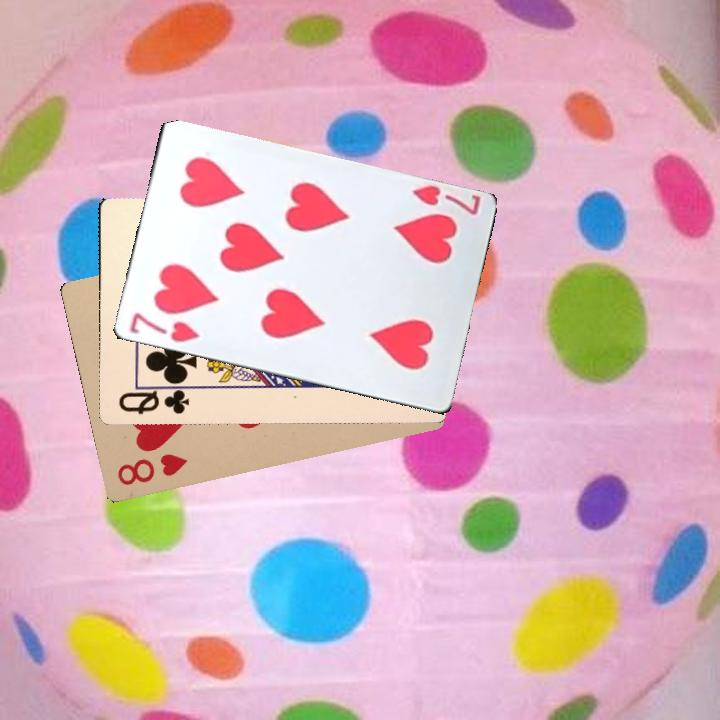7h: (126, 308, 202, 345), (408, 181, 484, 218)
8h: (113, 449, 190, 488)
Qc: (114, 380, 192, 417)
